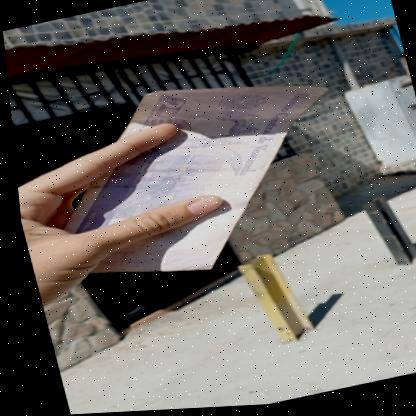ten-back-vef: (31, 57, 365, 296)
